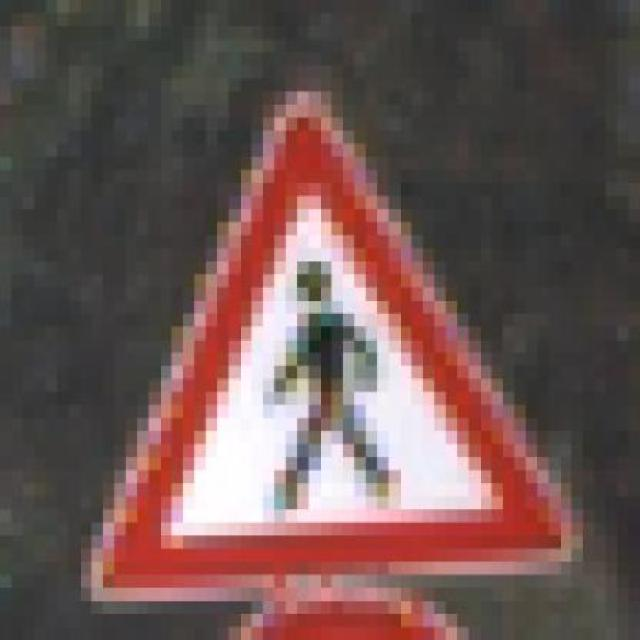Pedestrian Crossing: (69, 65, 606, 601)
